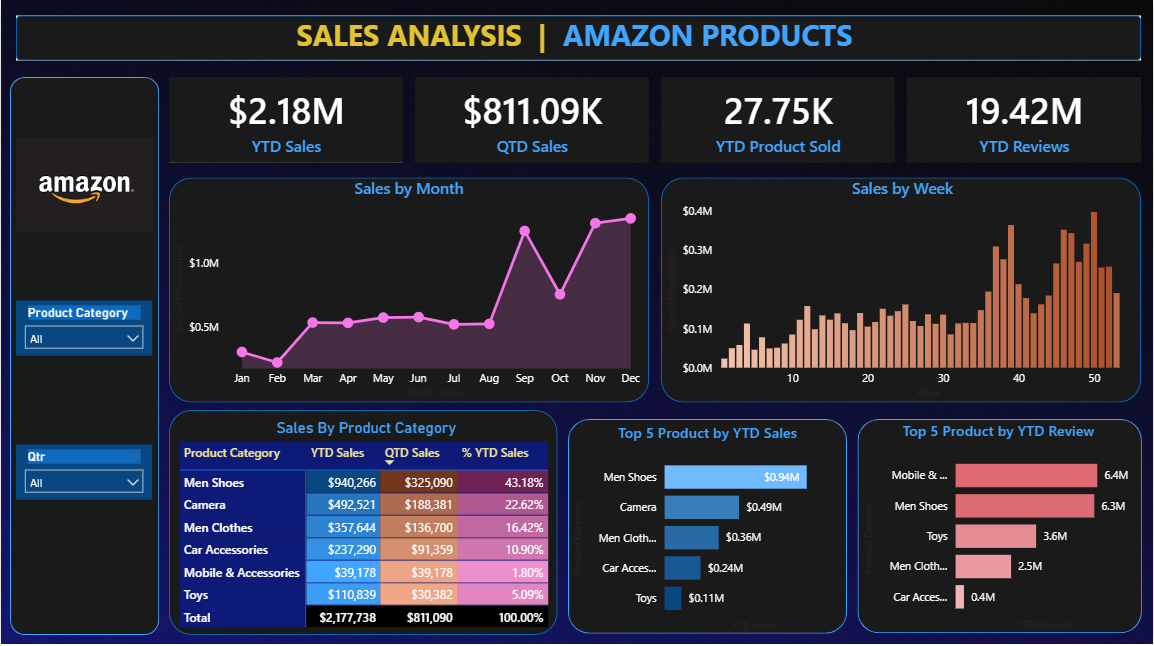

This screenshot's page, from the dashboard's own definition file:
{"tool":"powerbi","page":{"name":"Page 1","canvas":[1280,720],"ordinal":0},"visuals":[{"type":"shape","box":[16.7,18.3,1250,50],"z":0},{"type":"textbox","box":[16.7,11.7,1250,63.3],"z":1000},{"type":"shape","box":[10,86.4,165.7,620],"z":2000},{"type":"shape","box":[186.7,86.7,260,95],"z":3000},{"type":"card","fields":{"Values":["Amazon_Data.YTD Sales"]},"box":[186.7,86.7,260,95],"z":4000},{"type":"card","fields":{"Values":["Amazon_Data.QTD Sales"]},"box":[460,88,260,94],"z":5000},{"type":"card","fields":{"Values":["Amazon_Data.QTD Sales"]},"box":[460,86.7,260,95],"z":6000},{"type":"card","fields":{"Values":["Amazon_Data.YTD Product Sold"]},"box":[733.3,86.7,260,95],"z":7000},{"type":"card","fields":{"Values":["Amazon_Data.YTD Reviews"]},"box":[1006.7,86.7,260,95],"z":8000},{"type":"shape","box":[186.7,198.3,533.3,250],"z":9000},{"type":"areaChart","title":"Sales by Month","fields":{"Category":["Date Table.Month_name"],"Y":["Sum(Amazon_Data.Price(Dollar))"]},"box":[186.7,198.3,533.3,250],"z":10000},{"type":"shape","box":[733.3,198.3,533.3,250],"z":11000},{"type":"clusteredColumnChart","title":"Sales by Week","fields":{"Category":["Date Table.Week"],"Y":["Sum(Amazon_Data.Price(Dollar))"]},"box":[735,198.3,533.3,250],"z":12000},{"type":"shape","title":"Sales by Product Category","box":[186.7,456.7,431.7,250],"z":13000},{"type":"pivotTable","title":"Sales By Product Category","fields":{"Rows":["Amazon_Data.Product Category"],"Values":["Amazon_Data.YTD Sales1","Amazon_Data.QTD Sales","Amazon_Data.YTD Sales"]},"box":[193.3,456.7,425,250],"z":14000},{"type":"shape","box":[630,466.9,310,238.5],"z":15000},{"type":"barChart","title":"Top 5 Product by YTD Sales","fields":{"Category":["Amazon_Data.Product Category"],"Y":["Amazon_Data.YTD Sales"]},"box":[630,470,310,236.9],"z":16000},{"type":"shape","box":[951,467,316,238],"z":17000},{"type":"barChart","title":"Top 5 Product by YTD Review","fields":{"Category":["Amazon_Data.Product Category"],"Y":["Amazon_Data.YTD Reviews"]},"box":[954,468,310,237],"z":18000},{"type":"slicer","fields":{"Values":["Amazon_Data.Product Category"]},"box":[16.9,334.6,151.5,61.5],"z":19000},{"type":"slicer","fields":{"Values":["Date Table.Qtr"]},"box":[16.9,495.4,151.5,61.5],"z":20000},{"type":"image","box":[16.7,106.7,151.7,198.3],"z":21000}]}

Visuals, with their boxes in screenshot pixels (x1, y1, x2, y2), scaled from the page's 1280x720 canvas onto the 1154x646 screenshot:
shape: bbox=(15, 16, 1142, 61)
textbox: bbox=(15, 10, 1142, 67)
shape: bbox=(9, 78, 158, 634)
shape: bbox=(168, 78, 403, 163)
card - Amazon_Data.YTD Sales: bbox=(168, 78, 403, 163)
card - Amazon_Data.QTD Sales: bbox=(415, 79, 649, 163)
card - Amazon_Data.QTD Sales: bbox=(415, 78, 649, 163)
card - Amazon_Data.YTD Product Sold: bbox=(661, 78, 896, 163)
card - Amazon_Data.YTD Reviews: bbox=(908, 78, 1142, 163)
shape: bbox=(168, 178, 649, 402)
"Sales by Month" areaChart: bbox=(168, 178, 649, 402)
shape: bbox=(661, 178, 1142, 402)
"Sales by Week" clusteredColumnChart: bbox=(663, 178, 1143, 402)
"Sales by Product Category" shape: bbox=(168, 410, 558, 634)
"Sales By Product Category" pivotTable: bbox=(174, 410, 557, 634)
shape: bbox=(568, 419, 847, 633)
"Top 5 Product by YTD Sales" barChart: bbox=(568, 422, 847, 634)
shape: bbox=(857, 419, 1142, 633)
"Top 5 Product by YTD Review" barChart: bbox=(860, 420, 1140, 633)
slicer - Amazon_Data.Product Category: bbox=(15, 300, 152, 355)
slicer - Date Table.Qtr: bbox=(15, 444, 152, 500)
image: bbox=(15, 96, 152, 274)
